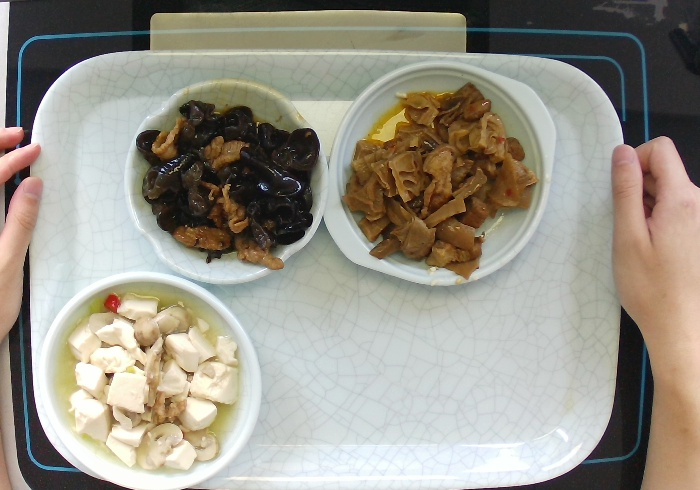JYsf-Ao_Yuan_Wan: (124, 75, 325, 286)
JYsf-Shuang_Er_Pan: (328, 59, 556, 288)
JYsf-Xiao_Yuan_Pan: (36, 268, 268, 490)
